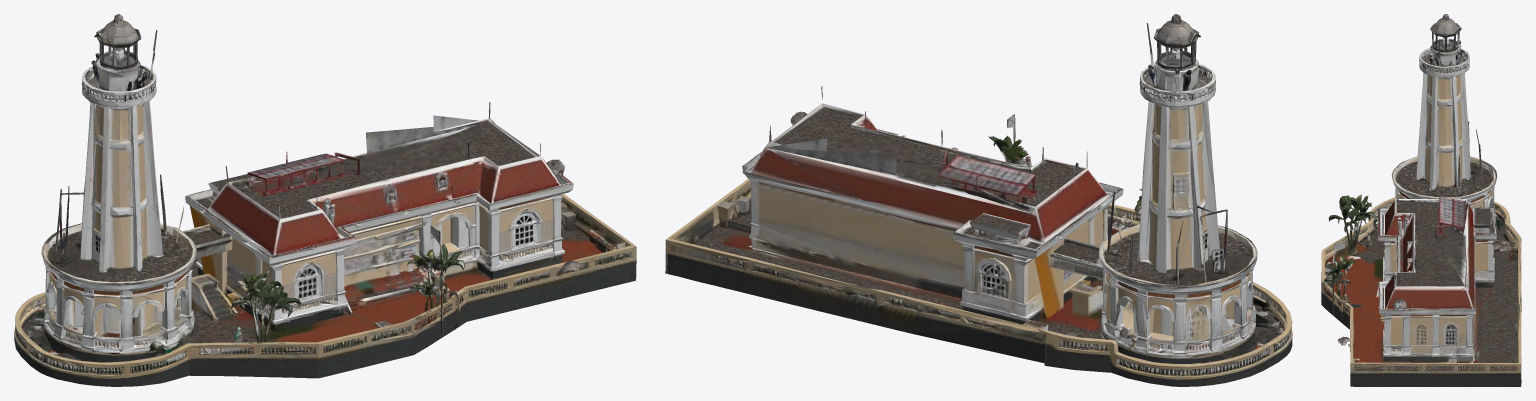
File: hai_dang_vinh_thuc.glb
The picture shows the model from 3 angles, left to right: view 1: azimuth 30°, elevation 25°; view 2: azimuth 150°, elevation 25°; view 3: azimuth 270°, elevation 25°; orthographic projection. The views are drawn at different scales.
Parts seen in each view (by area): view 1: Mesh_0; view 2: Mesh_0; view 3: Mesh_0.
Boxes of the visible parts, x1=… form: Mesh_0: x1=14, y1=14, x2=636, y2=386; Mesh_0: x1=665, y1=14, x2=1292, y2=386; Mesh_0: x1=1321, y1=14, x2=1521, y2=386.
Size of the model in its own units: 1.88 by 1.07 by 0.8741.
Materials: 1 (1 with a texture image).
